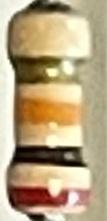Black: (11, 145, 87, 168)
Orange: (16, 99, 82, 128)
Red: (7, 187, 90, 207)
Side-Gold: (17, 58, 87, 82)
